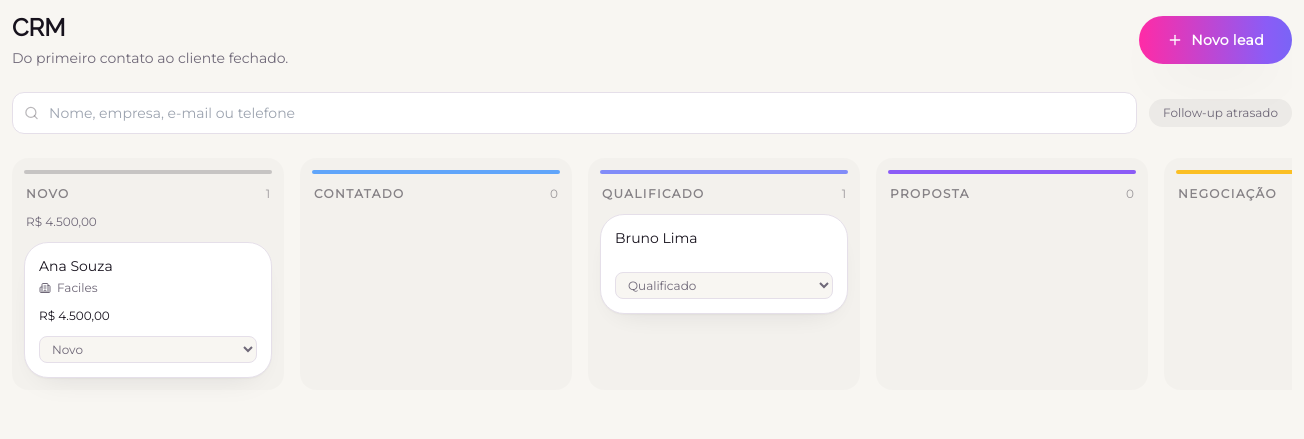
Test: mover lead › move de forma otimista e desfaz se o servidor recusar
This screenshot has width=1304, height=439.
Expected: the heading "Ana Souza" is shown, [39,257,113,275]
Step 1. Select "Negociação" in the 2nd dropdown named "mover ana souza" → (148, 350), box [39,336,257,363]
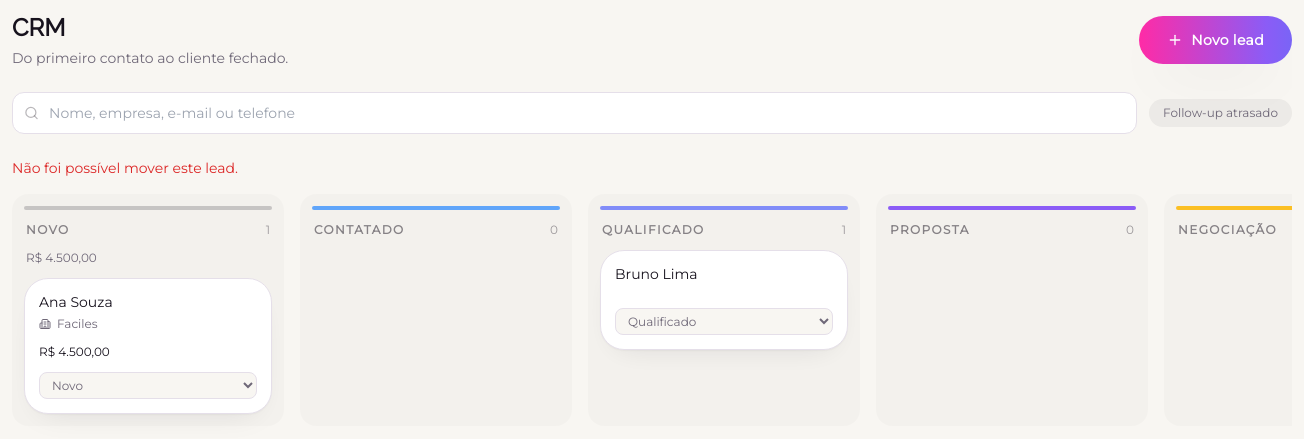
Now the message shows "Não foi possível mover", box [12,159,238,177]
